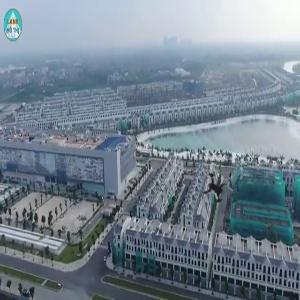drone: (184, 159, 245, 220)
